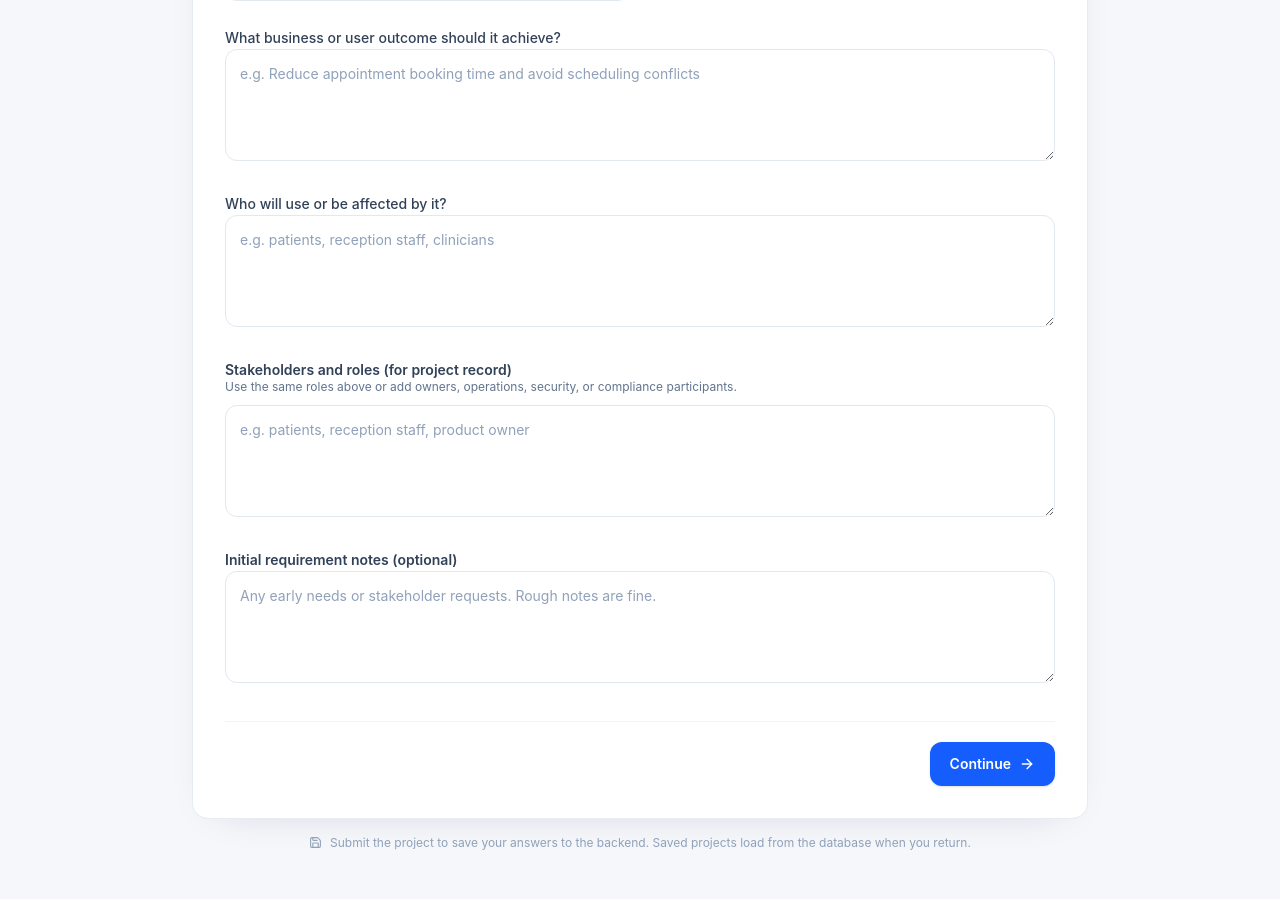
Test: questionnaire form › shows required field validation before advancing
(page scrolled)
Click the button "Continue": (992, 764) [930,742,1055,786]
(page scrolled)
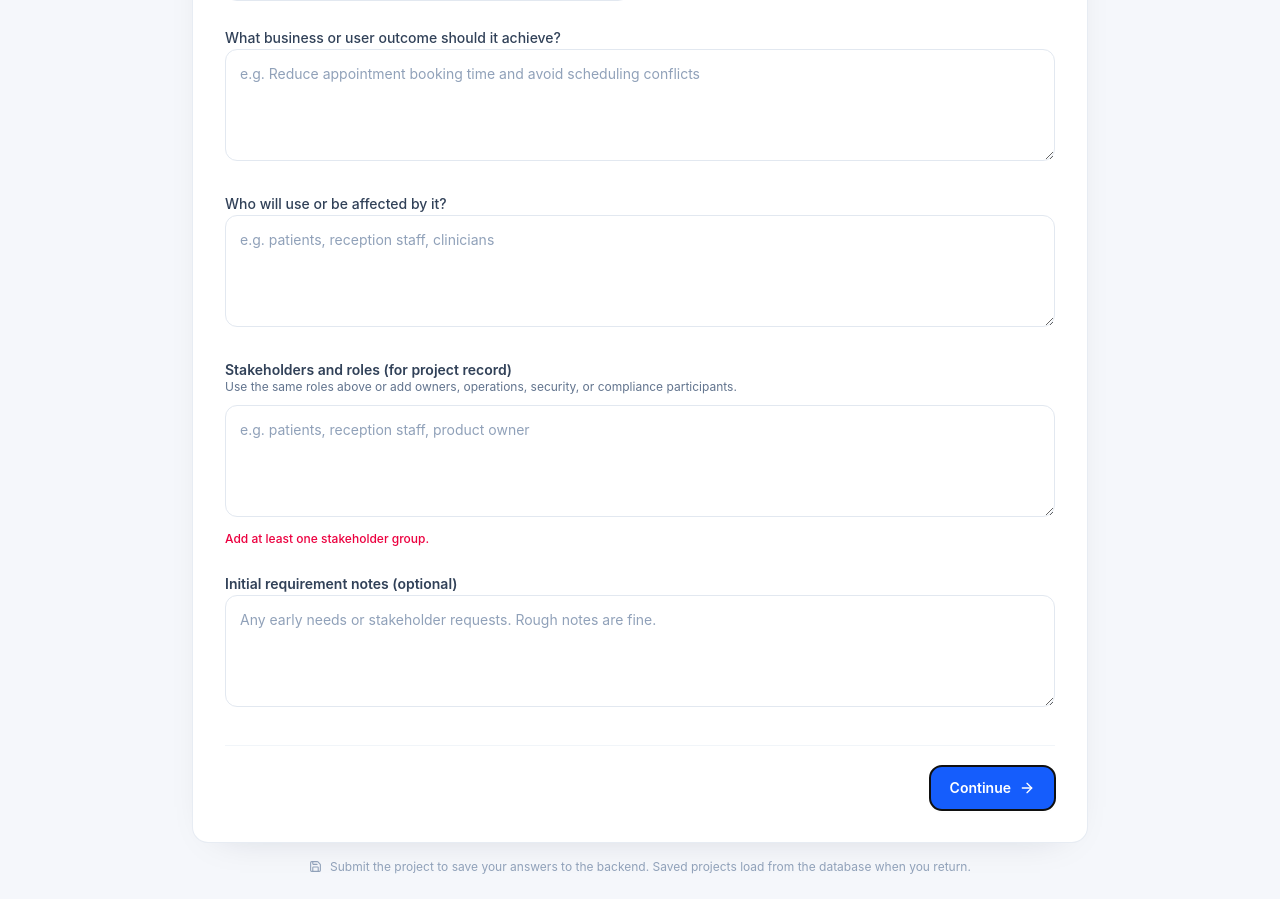
Result: the text "Add at least one stakeholder group." is shown at [225,530,429,546]
